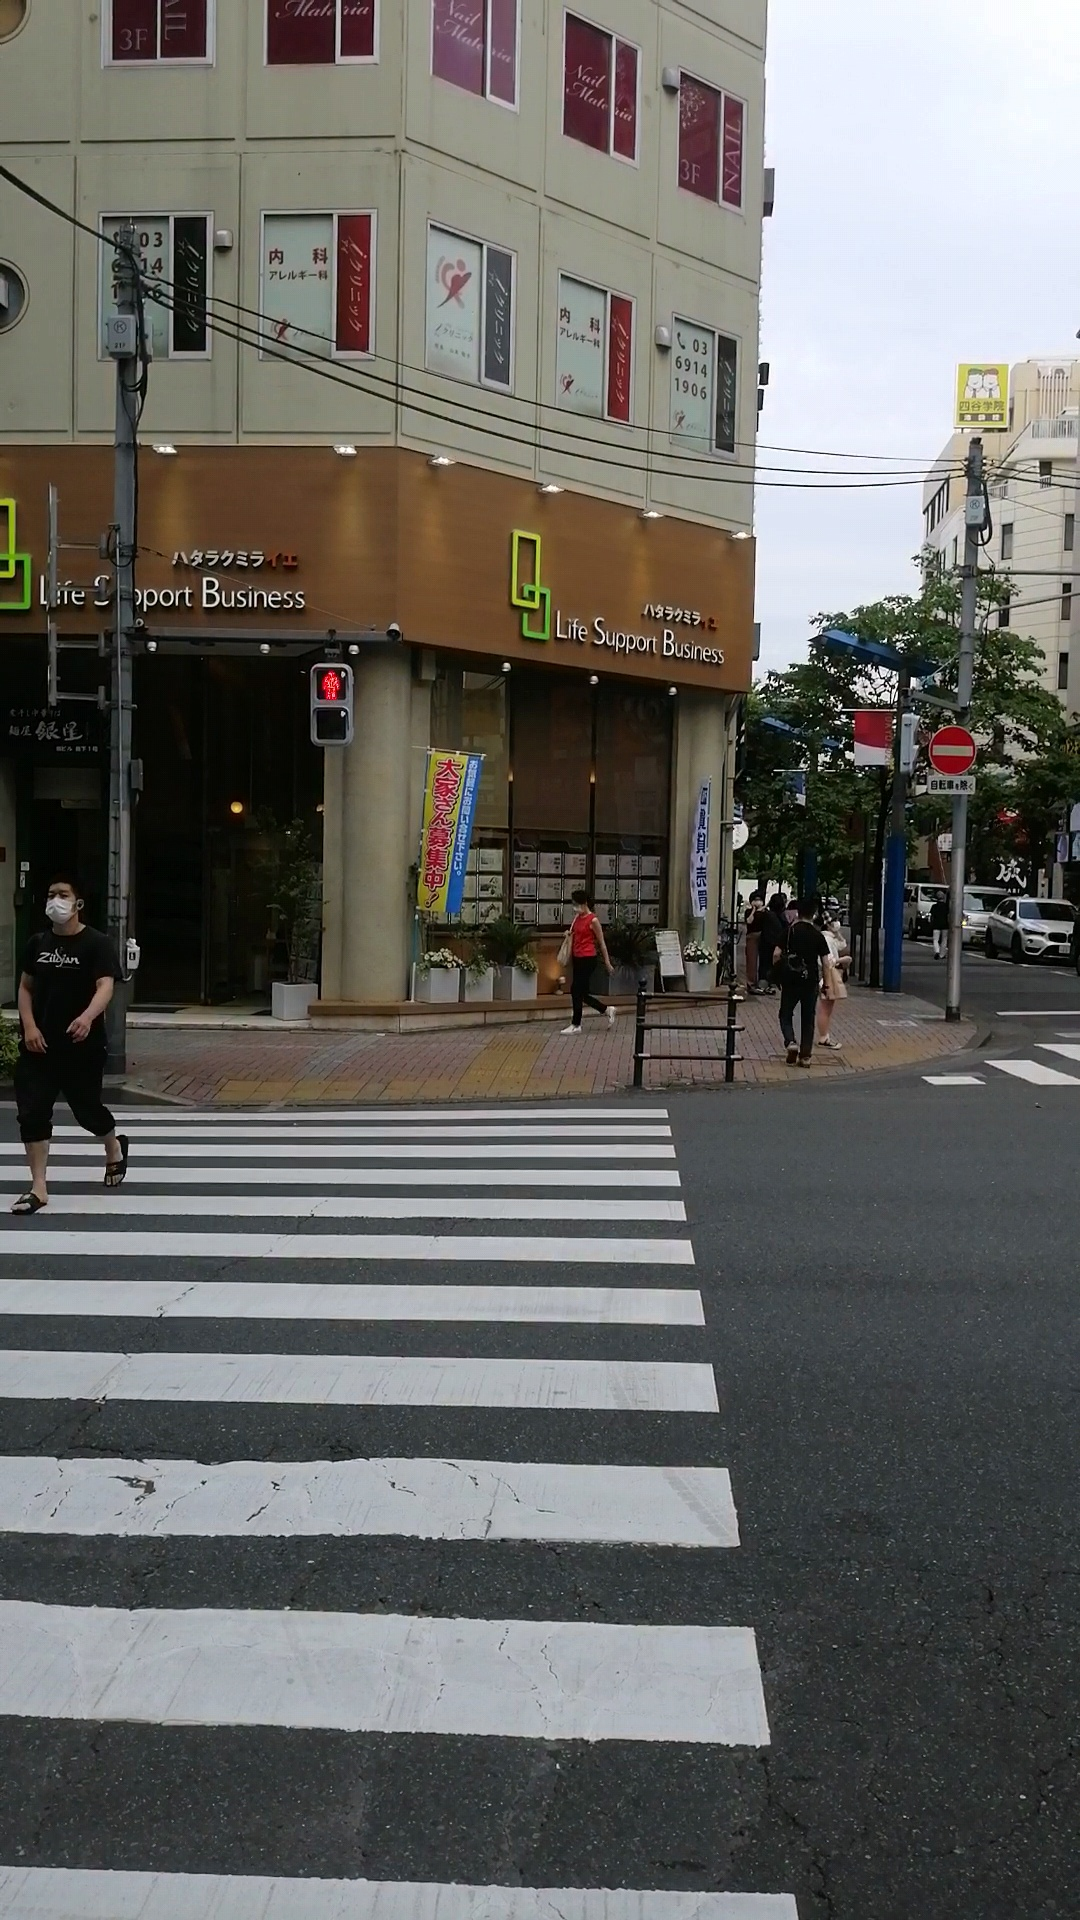red: (305, 661, 356, 746)
